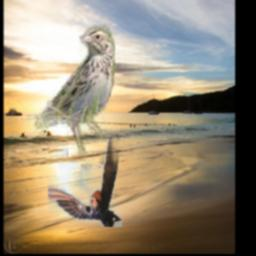Sparrow: (24, 25, 115, 155)
Swallow: (48, 134, 122, 227)
